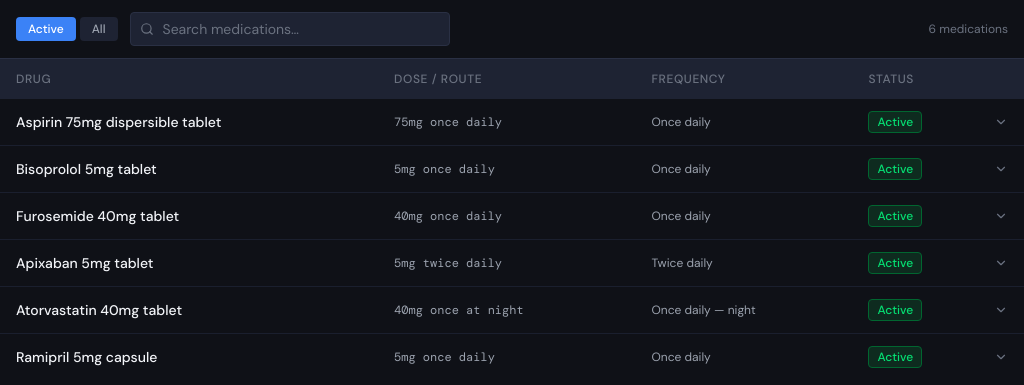
MedicationsPanel › filters medications by search input
The image size is (1024, 385).
Step 1. Type "Aspirin" into the search field with placeholder "Search medications…" → (290, 29), box [130,12,450,46]
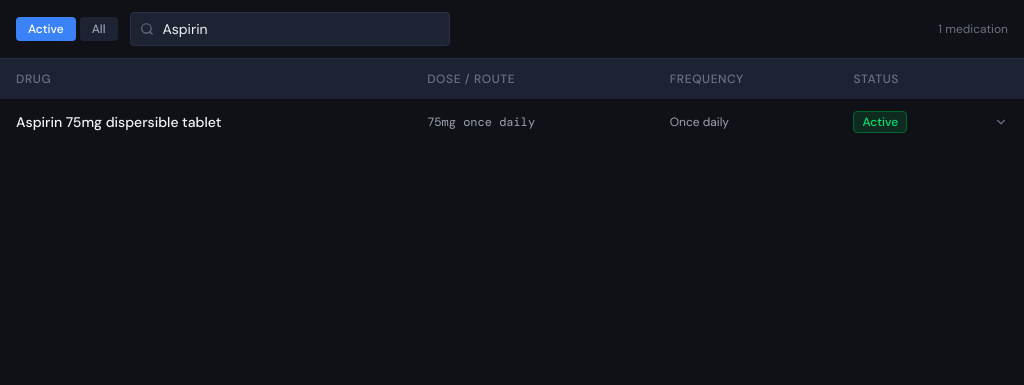
Expected: the text "Aspirin 75mg dispersible tablet" is shown, [0,99,411,145]
Expected: the text "Bisoprolol 5mg tablet" is gone
